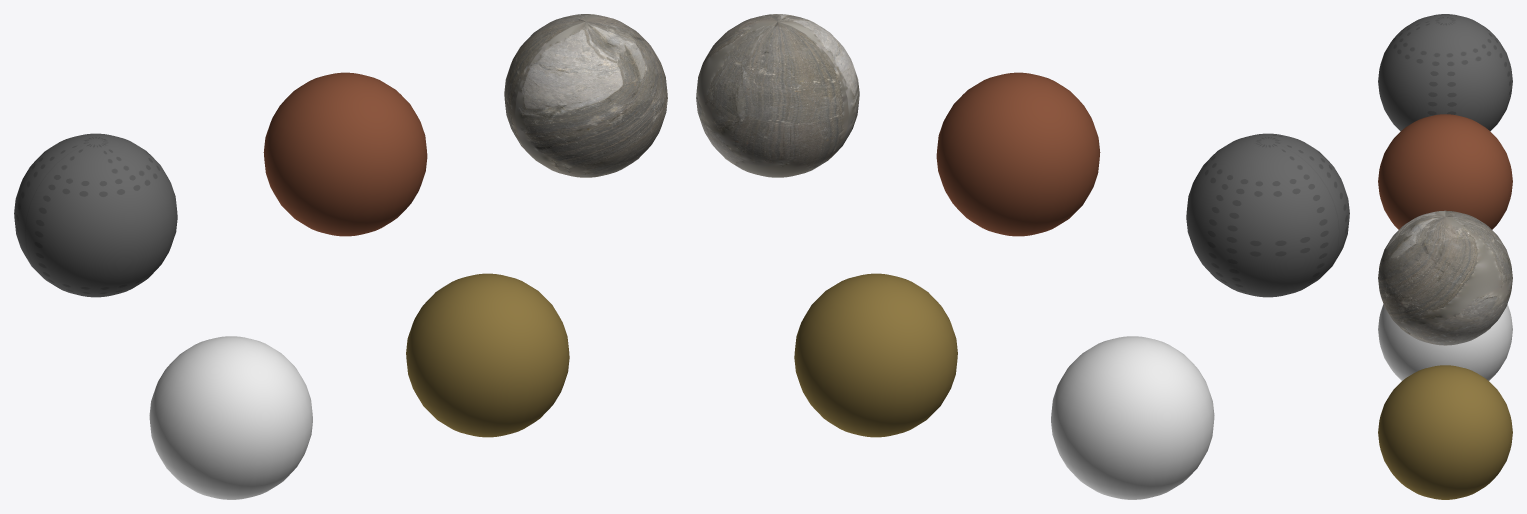
3 views of the same model, side by side, from view 1: azimuth 30°, elevation 25°; view 2: azimuth 150°, elevation 25°; view 3: azimuth 270°, elevation 25° (orthographic). The views are drawn at different scales.
Parts seen in each view (by area): view 1: Sphere, Sphere.003, Sphere.002, Sphere.004, Sphere.001; view 2: Sphere, Sphere.003, Sphere.002, Sphere.004, Sphere.001; view 3: Sphere.003, Sphere.002, Sphere, Sphere.001, Sphere.004.
Boxes of the visible parts, x1,y1,x2,y2 form: Sphere: (14, 133, 177, 297); Sphere.003: (406, 273, 569, 437); Sphere.002: (504, 14, 667, 177); Sphere.004: (149, 336, 312, 499); Sphere.001: (263, 72, 427, 236); Sphere: (1186, 133, 1349, 297); Sphere.003: (794, 273, 957, 437); Sphere.002: (696, 14, 859, 177); Sphere.004: (1051, 336, 1214, 499); Sphere.001: (936, 72, 1100, 236); Sphere.003: (1378, 365, 1512, 499); Sphere.002: (1378, 210, 1512, 345); Sphere: (1378, 14, 1512, 131); Sphere.001: (1378, 114, 1512, 229); Sphere.004: (1378, 304, 1512, 380).
Size of the model in its own units: 2.09 by 1.21 by 0.4687.
5 materials, 4 textured.
